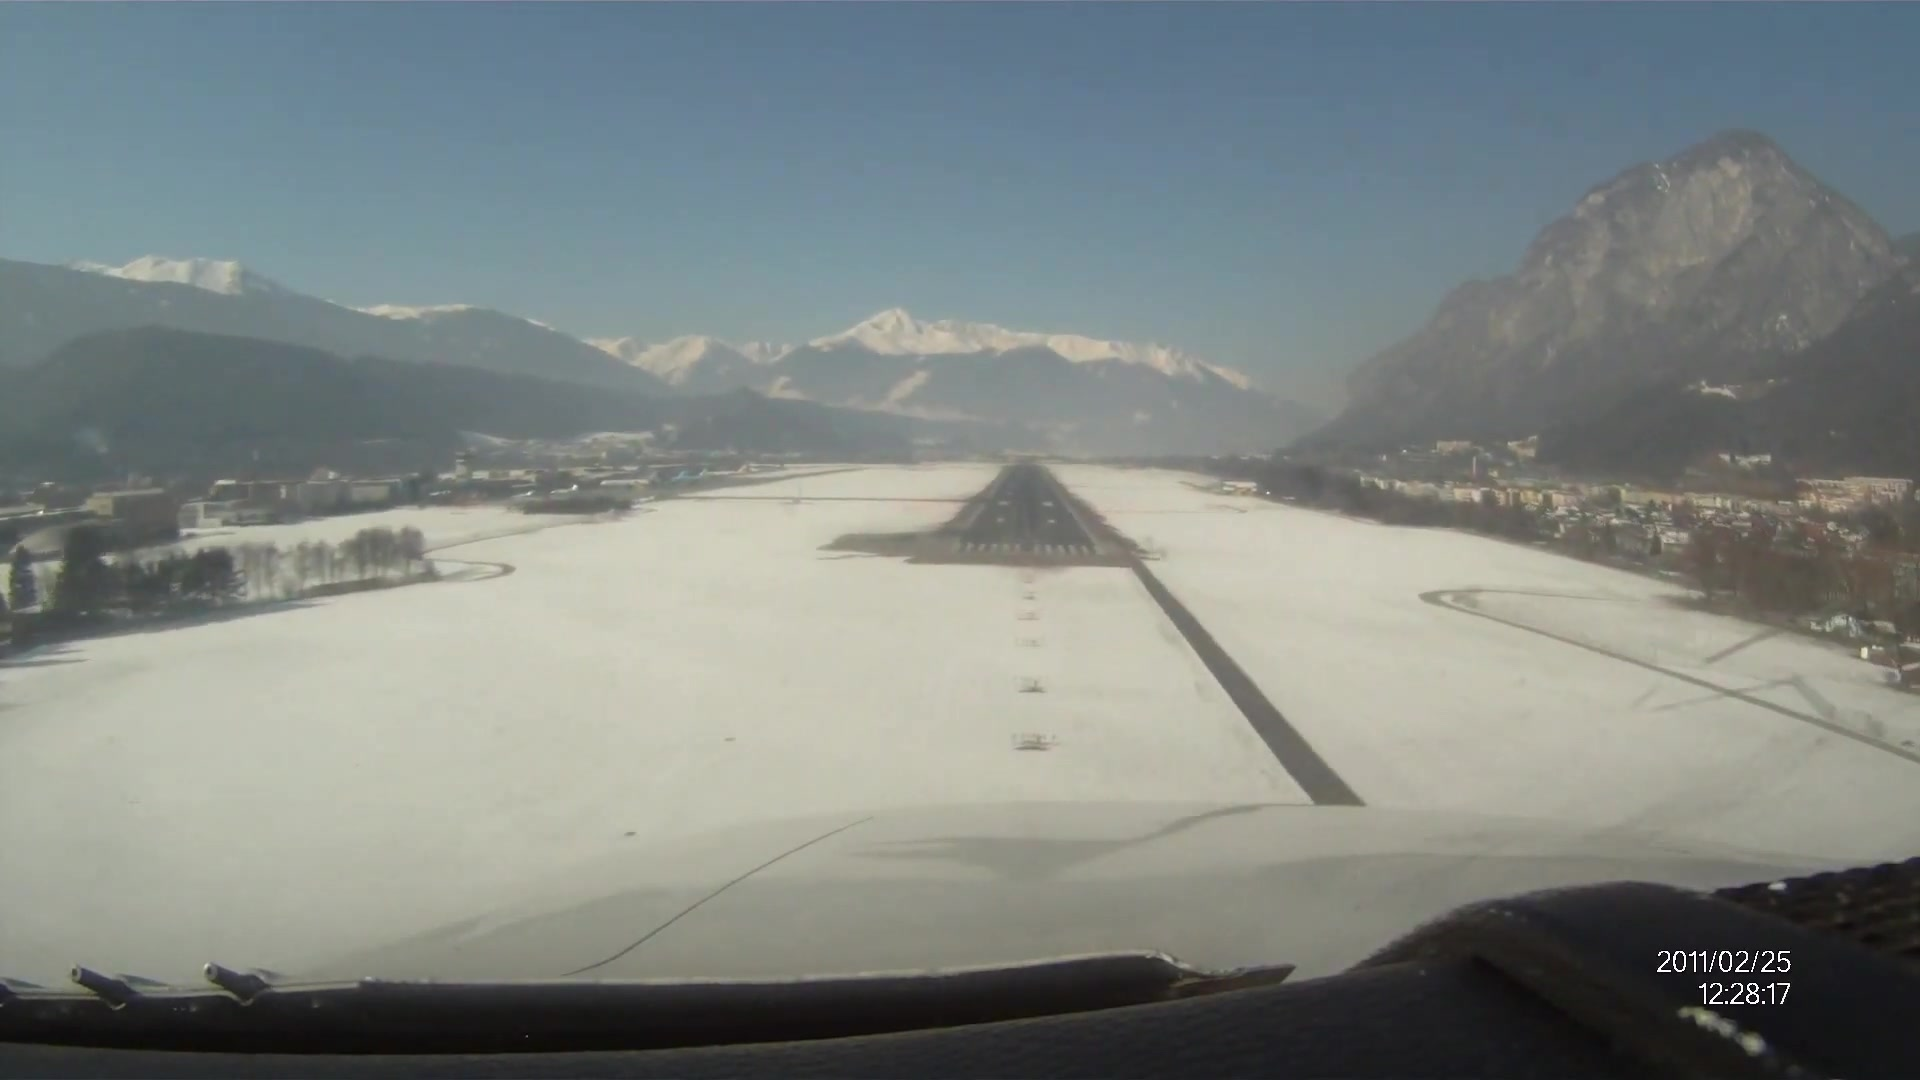entrance: (960, 543, 1091, 555)
runway: (956, 460, 1095, 560)
